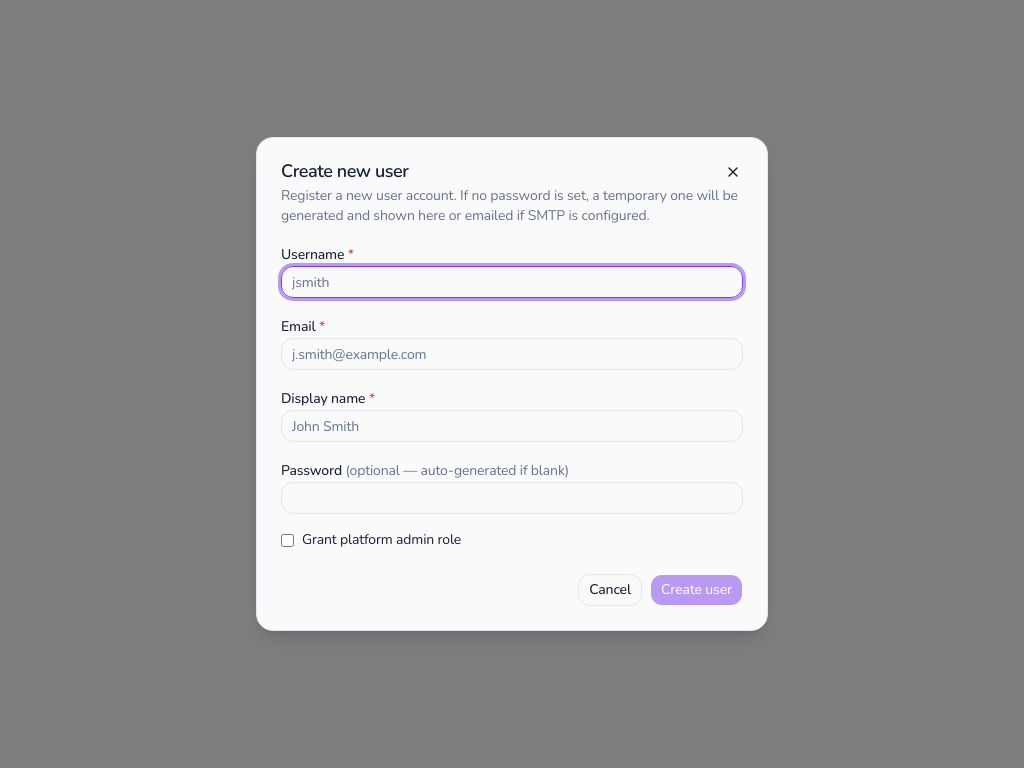
CreateUserDialog › submit button is enabled when all required fields are filled
Type "alice" into the field labelled "Username *" at coordinates (512, 282), box [281, 266, 743, 298]
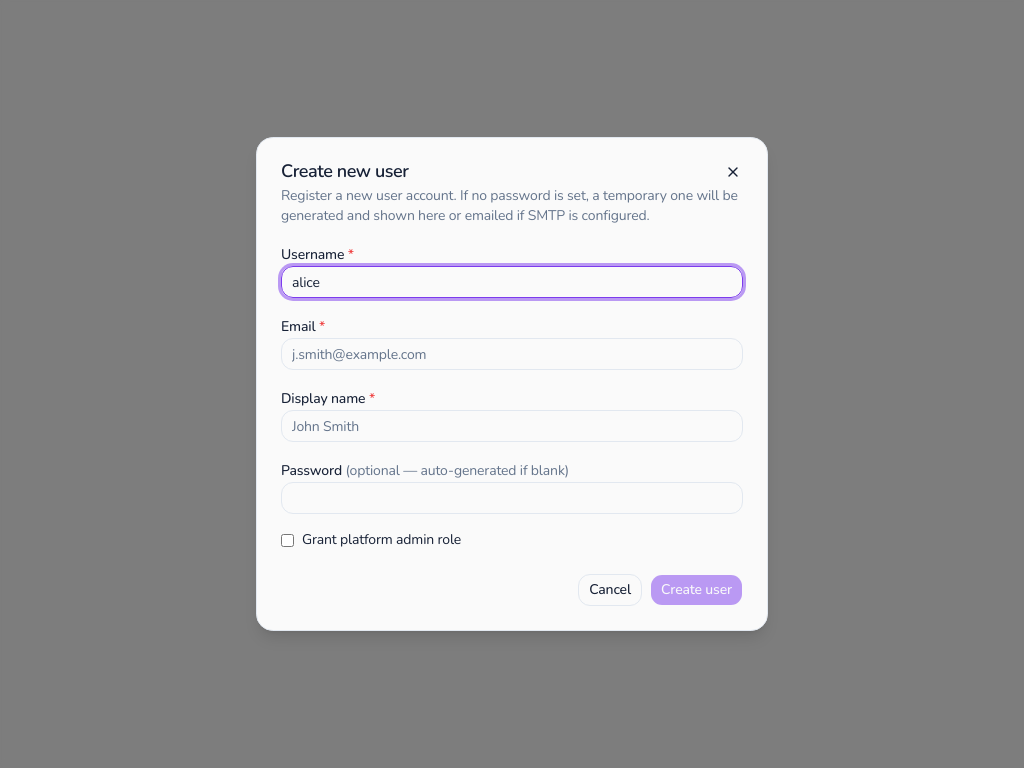
Type "alice@test.com" into the field labelled "Email *" at coordinates (512, 354), box [281, 338, 743, 370]
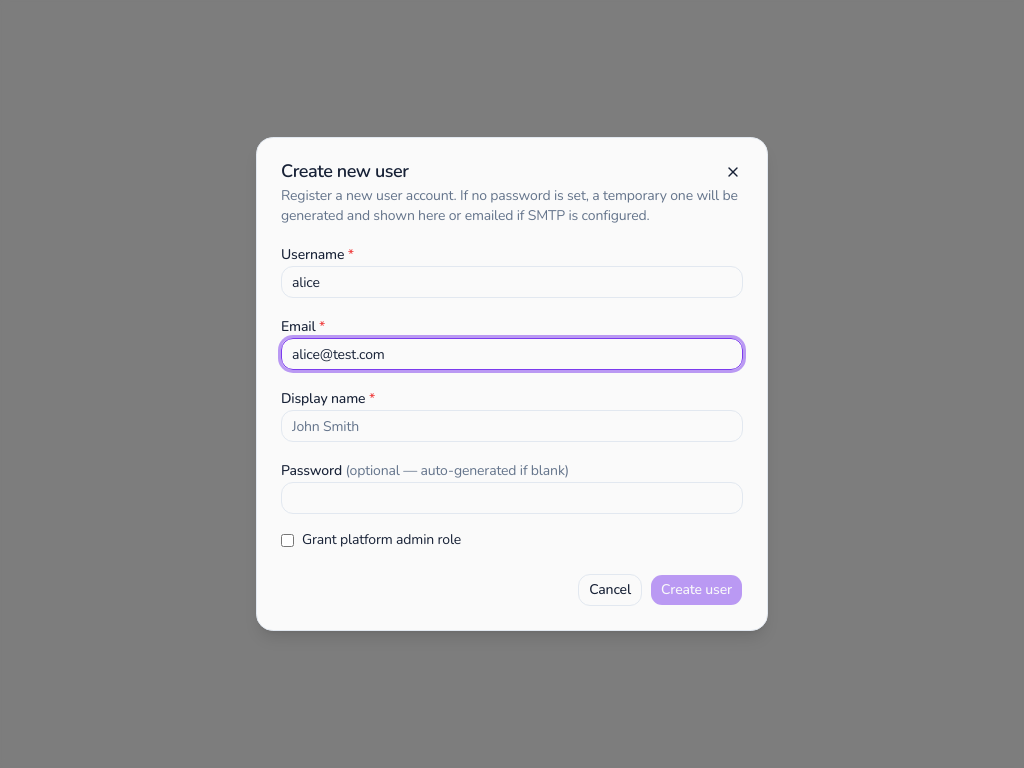
Type "Alice" into the field labelled "Display name *" at coordinates (512, 426), box [281, 410, 743, 442]
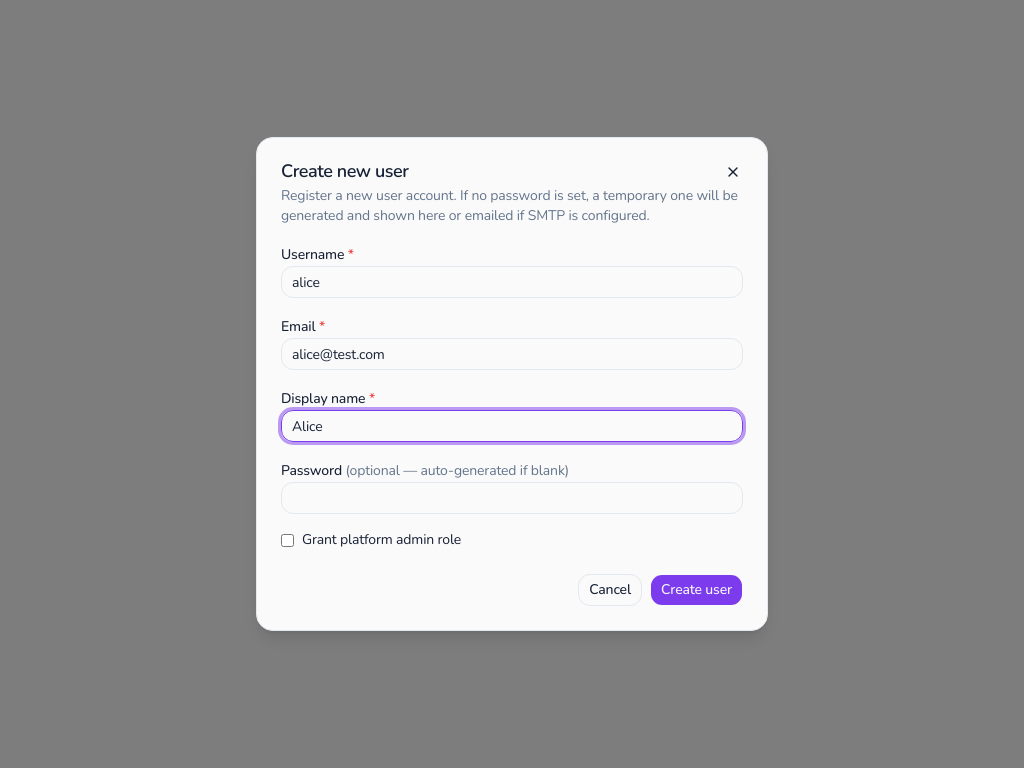
Check: the button "Create user" is enabled, box [650, 574, 743, 606]
